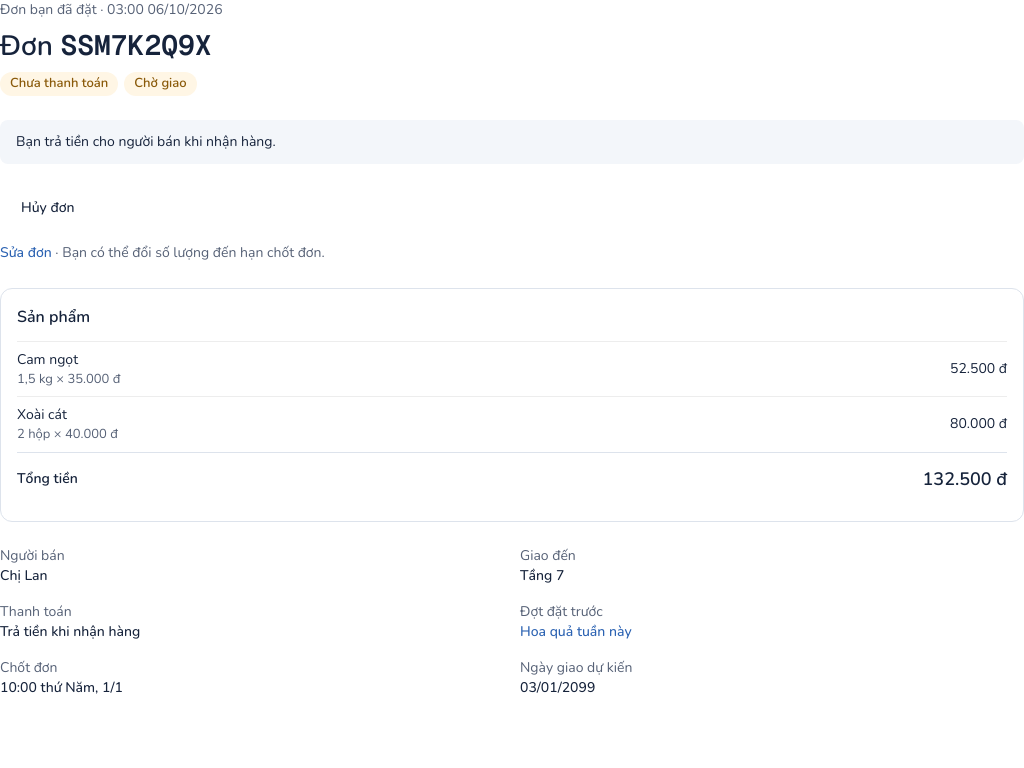
Test: editing an order › lists every product of the round with the ordered quantities and 0 for the rest
Click the button "Sửa đơn" at (26, 252), box [0, 242, 52, 262]
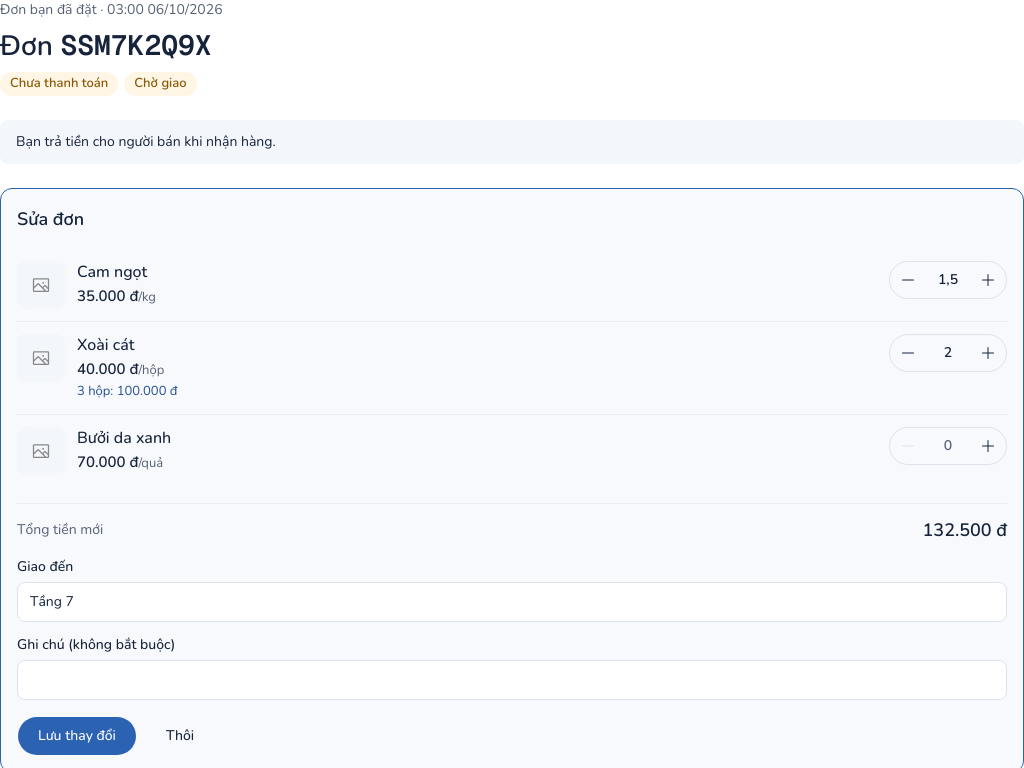
Check: the text named "Tổng tiền mới" reads "132.500 đ", box [922, 518, 1007, 542]
Check: the field labelled "Giao đến" holds "Tầng 7", box [17, 582, 1007, 622]
